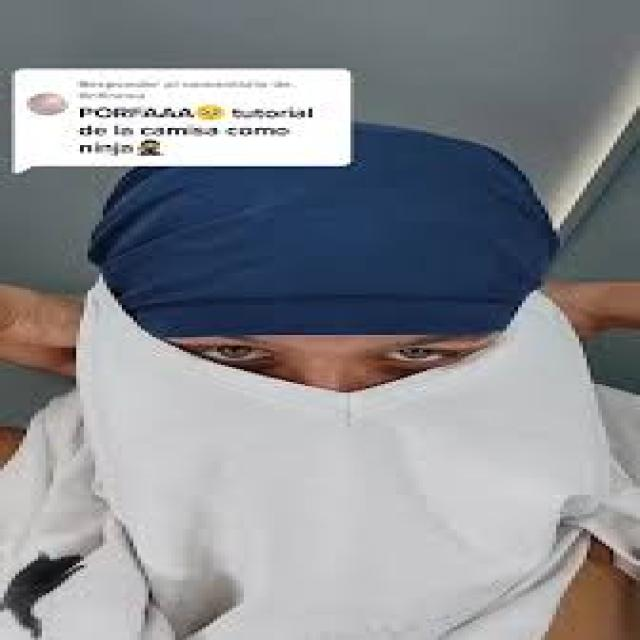8_ropa_rostro: (63, 333, 581, 548)
